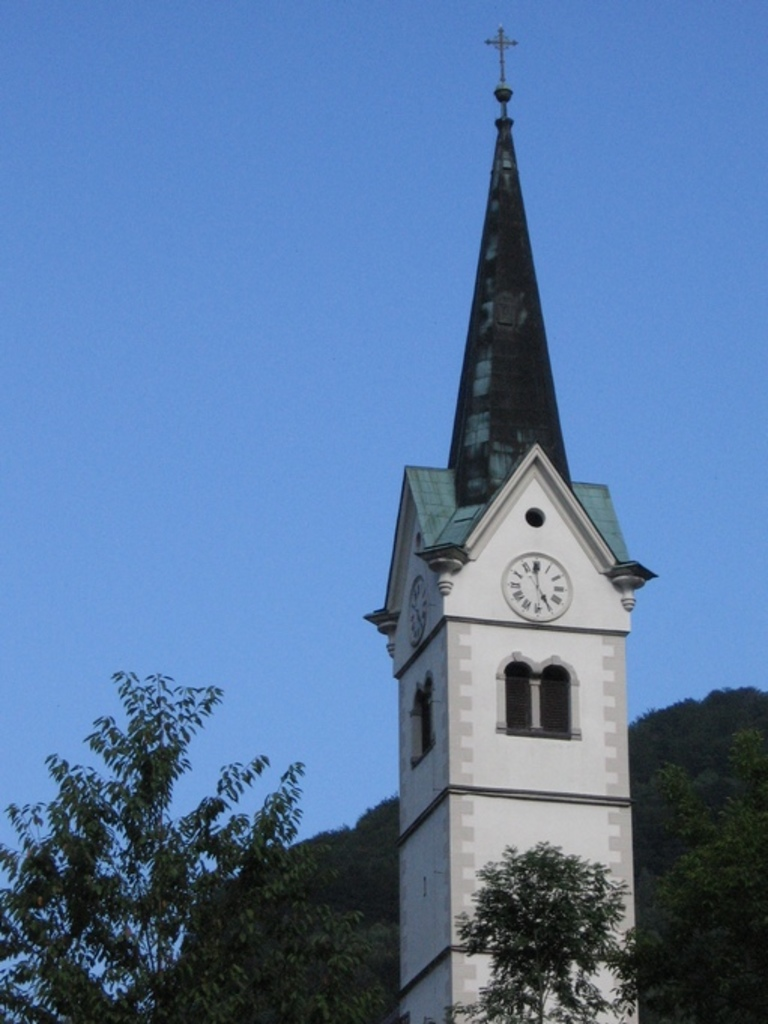Tree: (0, 669, 392, 1020), (637, 679, 766, 1022), (461, 836, 650, 989)
